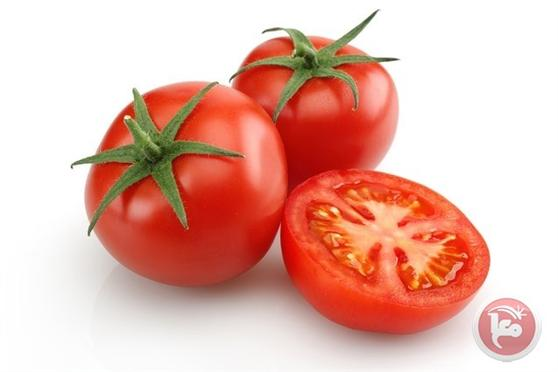tomato: (81, 82, 286, 289)
